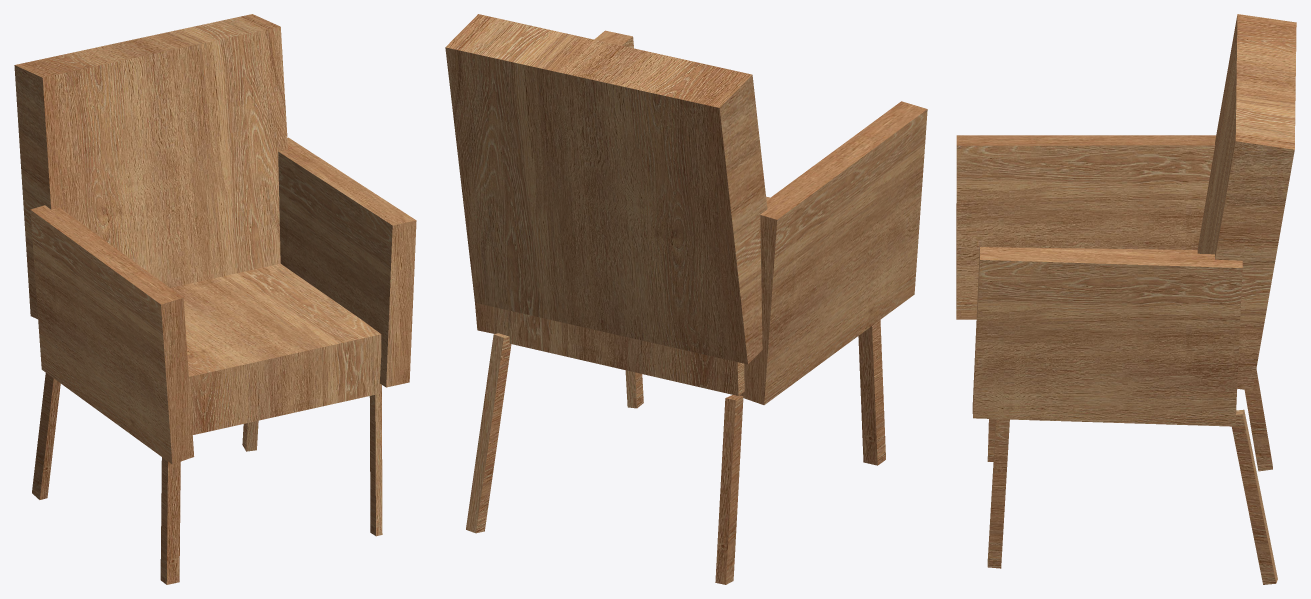
The model's file is 40783_ours.glb.
3 views of the same model, side by side, from view 1: azimuth 30°, elevation 25°; view 2: azimuth 150°, elevation 25°; view 3: azimuth 270°, elevation 25° (orthographic). The views are drawn at different scales.
Parts seen in each view (by area): view 1: ParentEmpty; view 2: ParentEmpty; view 3: ParentEmpty.
Boxes of the visible parts, x1,y1,x2,y2 form: ParentEmpty: (14,14,416,584); ParentEmpty: (445,14,927,584); ParentEmpty: (956,14,1296,584).
Size of the model in its own units: 0.6403 by 1 by 0.6764.
1 material, 1 textured.
